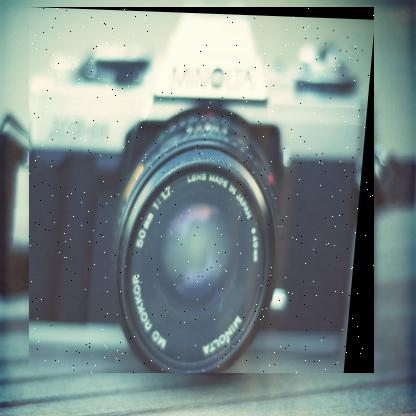Camera: (30, 8, 376, 375)
